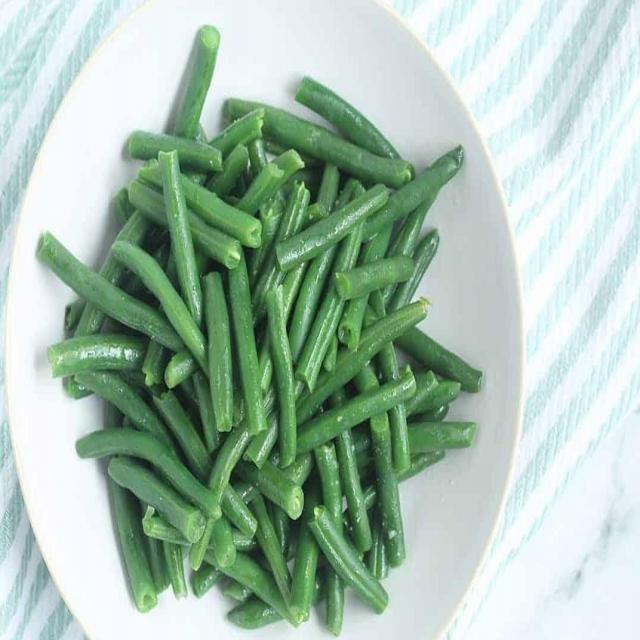Beans: (35, 0, 491, 639)
